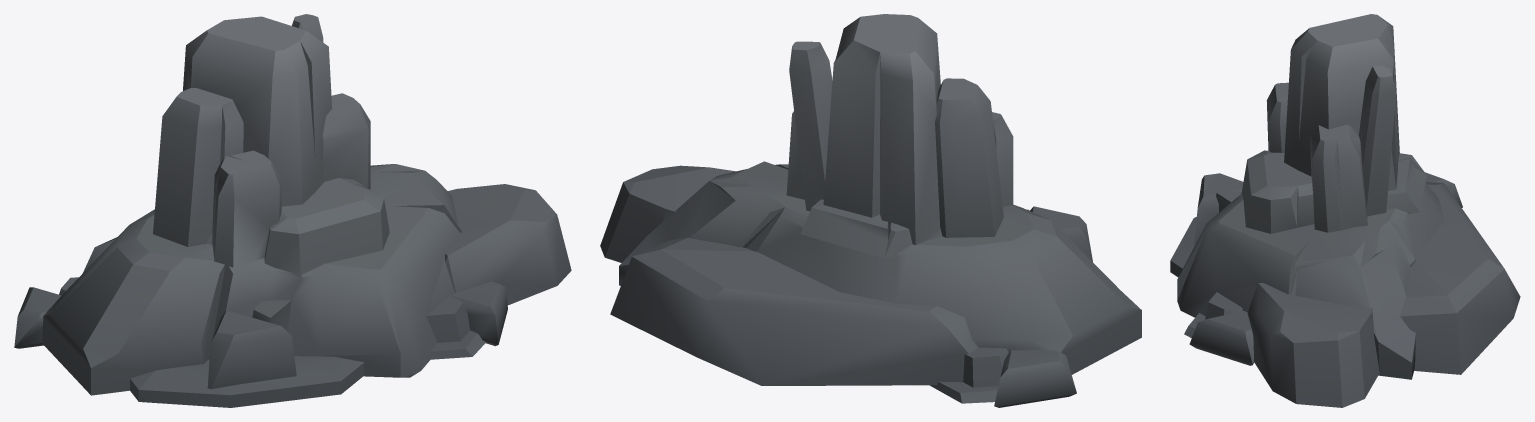
Rendered from Rock_5.fbx.
3 views of the same model, side by side, from view 1: azimuth 30°, elevation 25°; view 2: azimuth 150°, elevation 25°; view 3: azimuth 270°, elevation 25° (orthographic). The views are drawn at different scales.
Visible parts, largest first — view 1: Rock_5; view 2: Rock_5; view 3: Rock_5.
Part boxes in pixels (x1,y1,x2,y2): Rock_5: (14, 14, 571, 407); Rock_5: (600, 14, 1141, 407); Rock_5: (1170, 14, 1520, 407).
Size of the model in its own units: 762 by 434 by 516.
